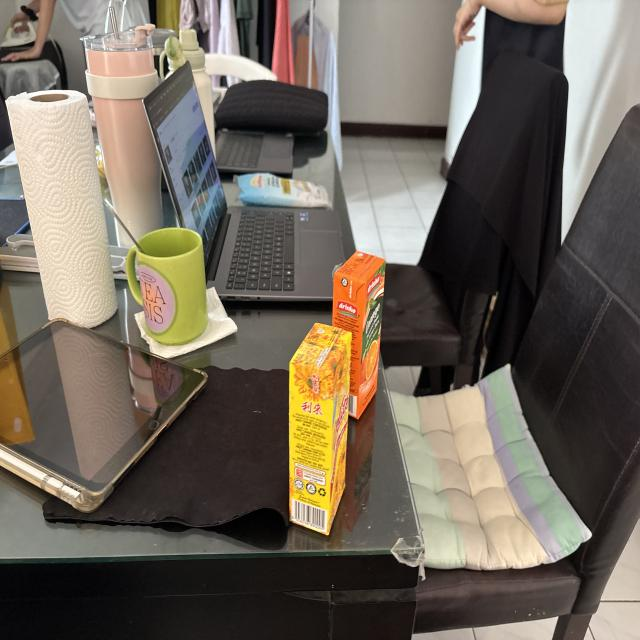drink_carton: (280, 311, 356, 540), (327, 244, 389, 428)
